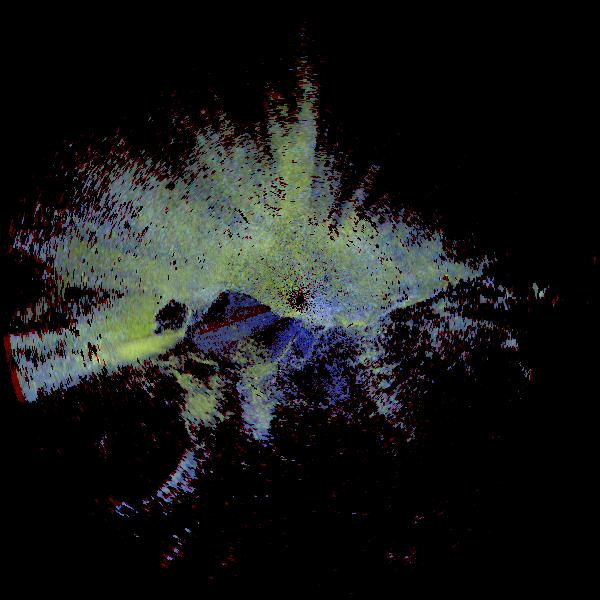roost: (10, 311, 241, 542), (109, 305, 295, 491)
